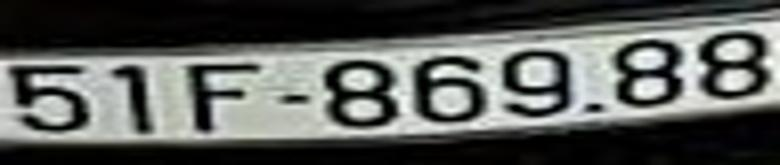-: (276, 94, 313, 107)
.: (587, 98, 603, 119)
1: (111, 63, 155, 136)
5: (9, 61, 90, 136)
6: (415, 52, 489, 128)
8: (698, 27, 772, 101), (325, 58, 399, 131), (619, 38, 683, 107)
9: (502, 46, 573, 119)
F: (189, 58, 261, 132)
